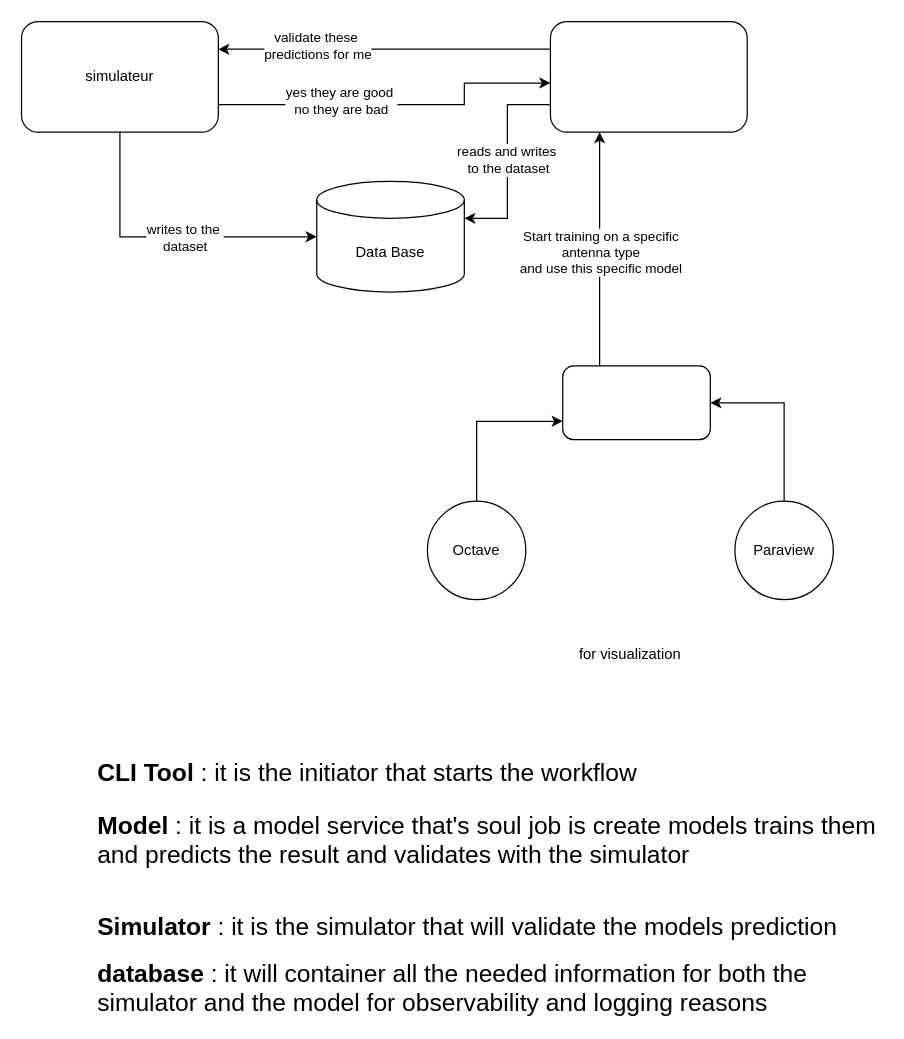
Some shapes in this 904 by 1039 pixel diagram are drawn without their labels. The box of each missing label's shape, as (x1, y1, x2, y2) in pixels:
CLI tool: (561, 365, 710, 440)
Model: (549, 20, 747, 132)
